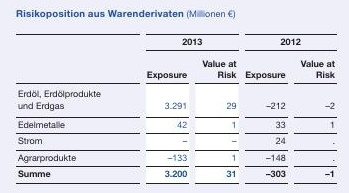table: (0, 0, 349, 193)
